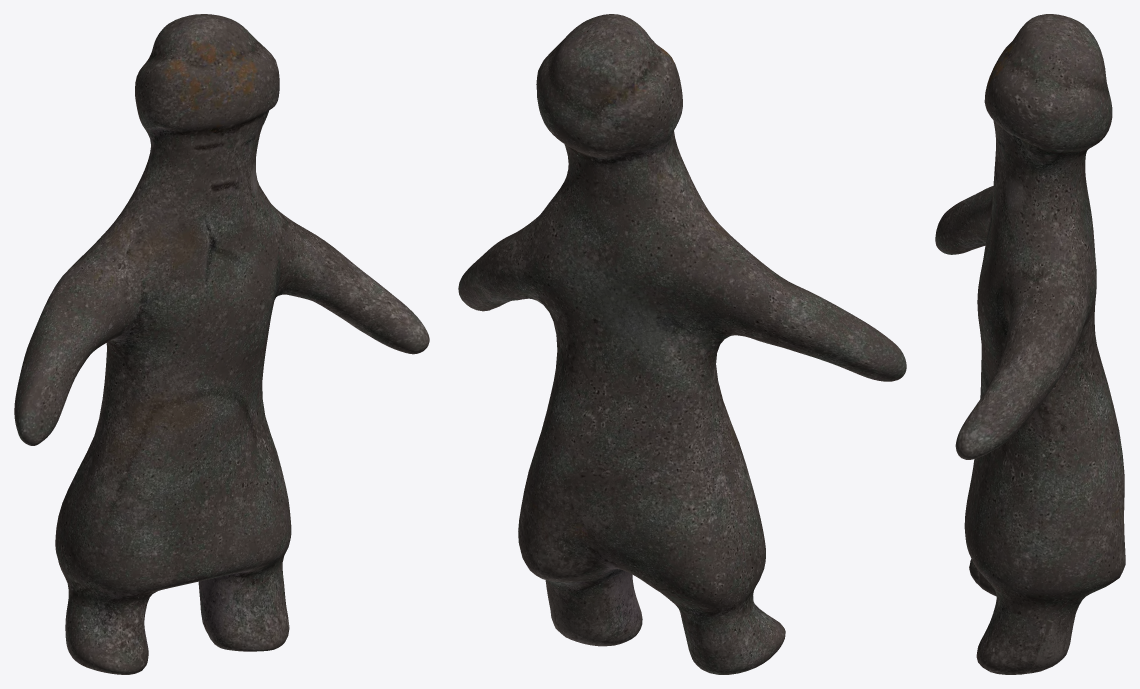
File: toou.glb
The picture shows the model from 3 angles, left to right: view 1: azimuth 30°, elevation 25°; view 2: azimuth 150°, elevation 25°; view 3: azimuth 270°, elevation 25°; orthographic projection. The views are drawn at different scales.
Parts seen in each view (by area): view 1: SM_AR10001_High; view 2: SM_AR10001_High; view 3: SM_AR10001_High.
Part boxes in pixels (bbox=[...]): SM_AR10001_High: bbox=[14, 14, 429, 674]; SM_AR10001_High: bbox=[458, 14, 906, 674]; SM_AR10001_High: bbox=[935, 14, 1125, 674].
Bounding box in the file's own units: 0.0693 × 0.0979 × 0.0267.
1 material, 1 textured.
